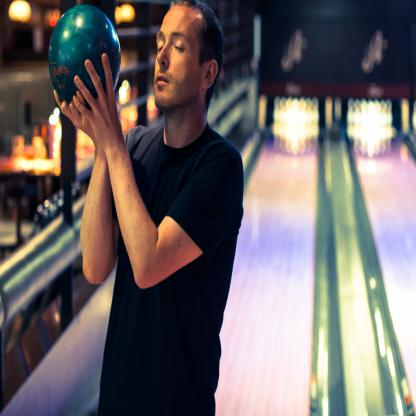Ball: (48, 5, 122, 112)
